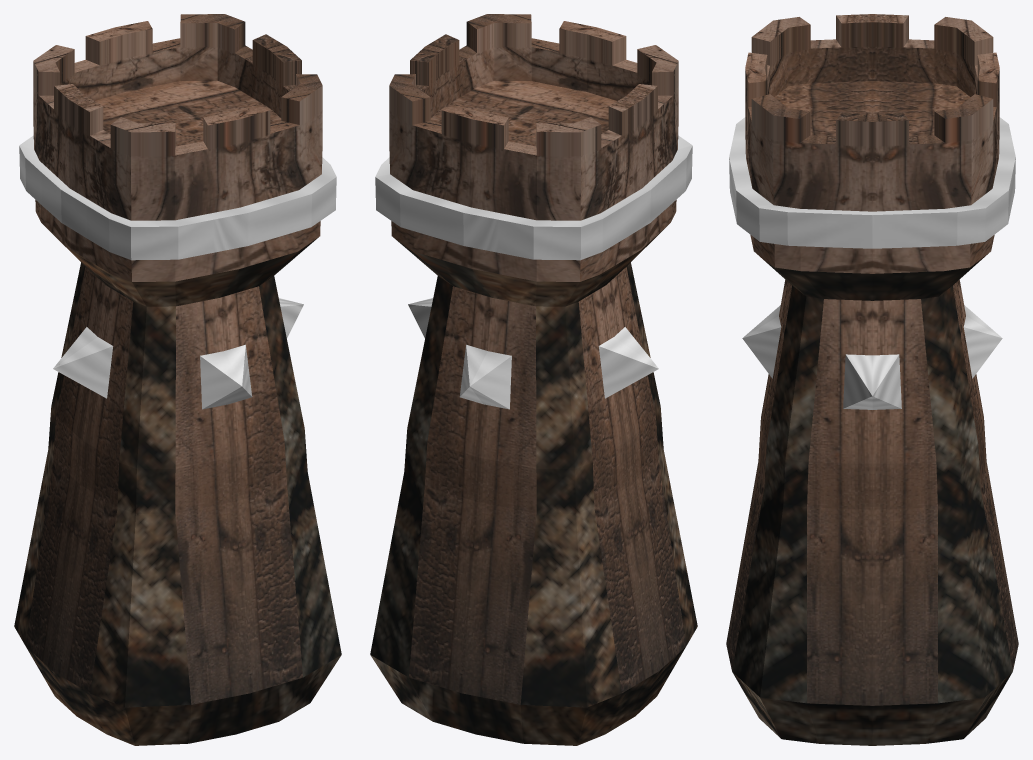
The model's file is toren2.fbx.
3 views of the same model, side by side, from view 1: azimuth 30°, elevation 25°; view 2: azimuth 150°, elevation 25°; view 3: azimuth 270°, elevation 25° (orthographic).
Parts seen in each view (by area): view 1: Cube; view 2: Cube; view 3: Cube.
Boxes of the visible parts, x1,y1,x2,y2 form: Cube: (14,14,341,745); Cube: (370,14,697,745); Cube: (726,14,1018,745).
Bounding box in the file's own units: 293 × 688 × 291.
